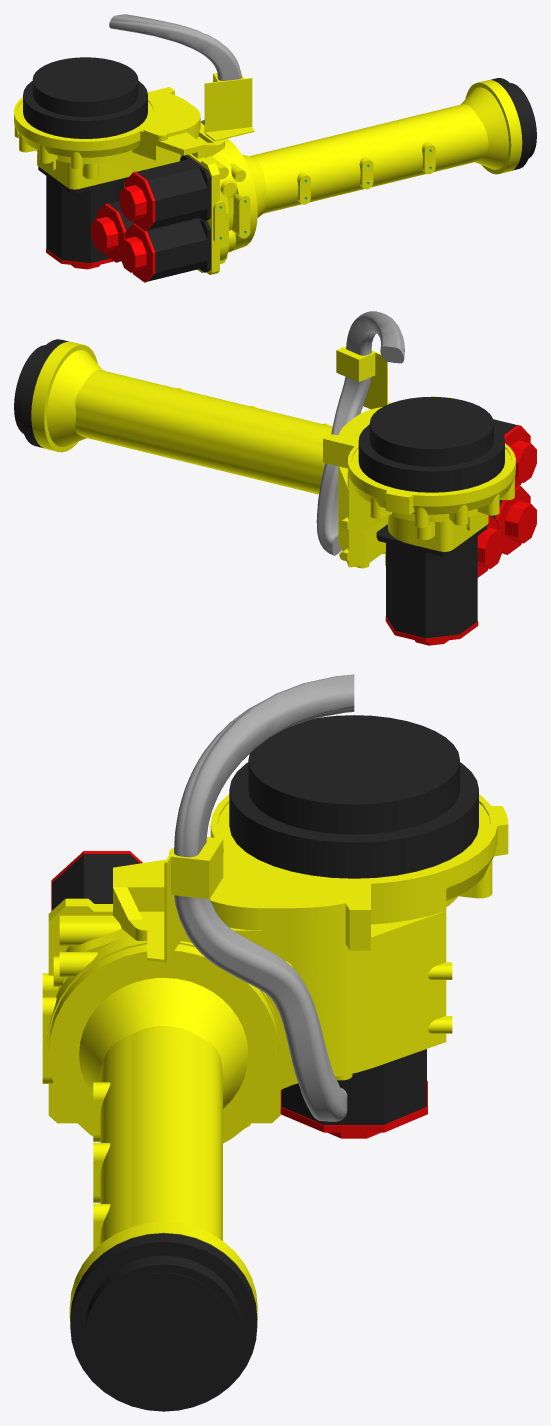
3 views of the same model, one above another, from view 1: azimuth 30°, elevation 25°; view 2: azimuth 150°, elevation 25°; view 3: azimuth 270°, elevation 25° (orthographic). The views are drawn at different scales.
Parts seen in each view (by area): view 1: 3D_J3_AllCATPart; view 2: 3D_J3_AllCATPart; view 3: 3D_J3_AllCATPart.
Boxes of the visible parts, left/top/right/bottom form: 3D_J3_AllCATPart: left=14, top=14, right=536, bottom=282; 3D_J3_AllCATPart: left=14, top=311, right=536, bottom=645; 3D_J3_AllCATPart: left=42, top=674, right=508, bottom=1411.
Bounding box in the file's own units: 1218 × 630 × 550.
